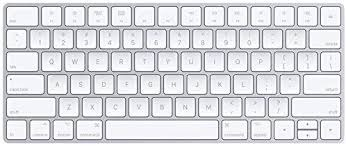keyboard: (2, 4, 346, 146)
